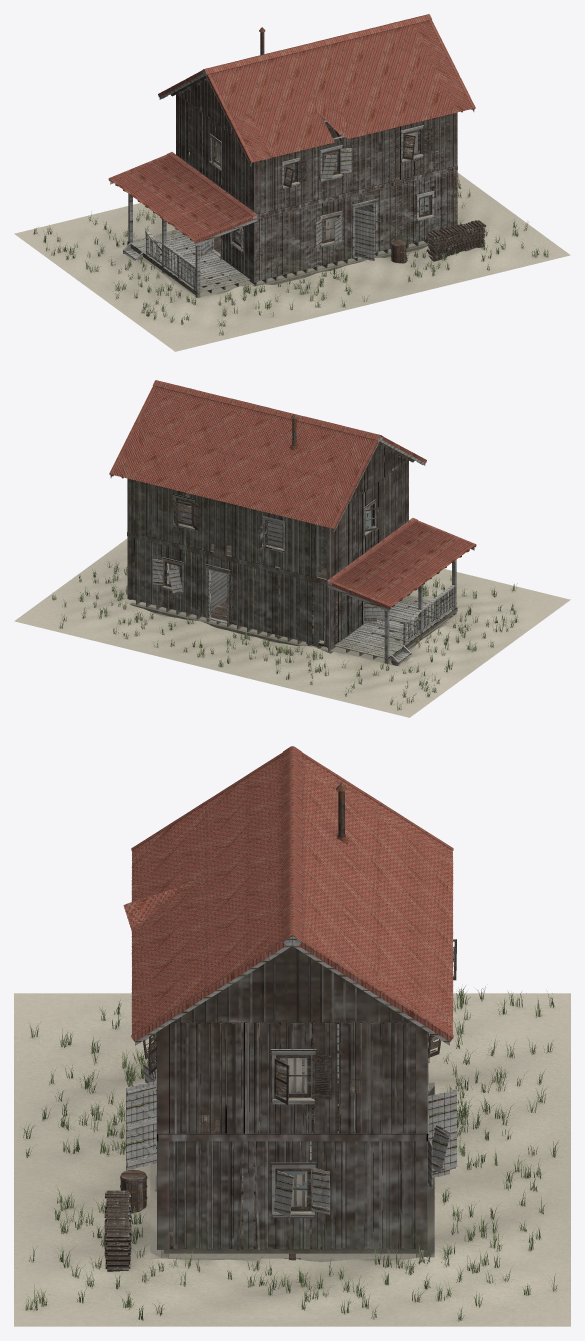
File: CAB_1_tablones.glb
3 renders of one model, top to bottom at view 1: azimuth 30°, elevation 25°; view 2: azimuth 150°, elevation 25°; view 3: azimuth 270°, elevation 25°, orthographic. The views are drawn at different scales.
Visible parts, largest first — view 1: CAB_1_tablones_Roof, CAB_1_tablones_Sand, CAB_1_tablones_WallsMain, CAB_1_tablones_WallsRest, CAB_1_tablones_Details, CAB_1_tablones_Interior, CAB_1_tablones_SkirtLoose; view 2: CAB_1_tablones_WallsRest, CAB_1_tablones_Roof, CAB_1_tablones_Sand, CAB_1_tablones_Interior, CAB_1_tablones_SkirtLoose, CAB_1_tablones_Details; view 3: CAB_1_tablones_Sand, CAB_1_tablones_WallsRest, CAB_1_tablones_Roof, CAB_1_tablones_Details, CAB_1_tablones_SkirtLoose, CAB_1_tablones_WallsMain, CAB_1_tablones_Interior.
Part boxes in pixels (bbox=[...]): CAB_1_tablones_Roof: bbox=[108, 14, 475, 246]; CAB_1_tablones_Sand: bbox=[14, 173, 570, 351]; CAB_1_tablones_WallsMain: bbox=[129, 79, 457, 297]; CAB_1_tablones_WallsRest: bbox=[127, 79, 453, 297]; CAB_1_tablones_Details: bbox=[123, 27, 485, 290]; CAB_1_tablones_Interior: bbox=[131, 78, 445, 296]; CAB_1_tablones_SkirtLoose: bbox=[33, 174, 548, 335]; CAB_1_tablones_WallsRest: bbox=[127, 445, 457, 664]; CAB_1_tablones_Roof: bbox=[109, 380, 476, 612]; CAB_1_tablones_Sand: bbox=[14, 539, 570, 717]; CAB_1_tablones_Interior: bbox=[131, 444, 453, 664]; CAB_1_tablones_SkirtLoose: bbox=[52, 561, 518, 710]; CAB_1_tablones_Details: bbox=[152, 414, 455, 665]; CAB_1_tablones_Sand: bbox=[14, 993, 570, 1326]; CAB_1_tablones_WallsRest: bbox=[155, 947, 429, 1260]; CAB_1_tablones_Roof: bbox=[123, 746, 453, 1045]; CAB_1_tablones_Details: bbox=[104, 782, 457, 1271]; CAB_1_tablones_SkirtLoose: bbox=[21, 986, 559, 1320]; CAB_1_tablones_WallsMain: bbox=[156, 949, 415, 1259]; CAB_1_tablones_Interior: bbox=[168, 1022, 416, 1259].
Bounding box in the file's own units: 17.62 × 9.09 × 12.45.
Materials: 12 (10 with a texture image).
